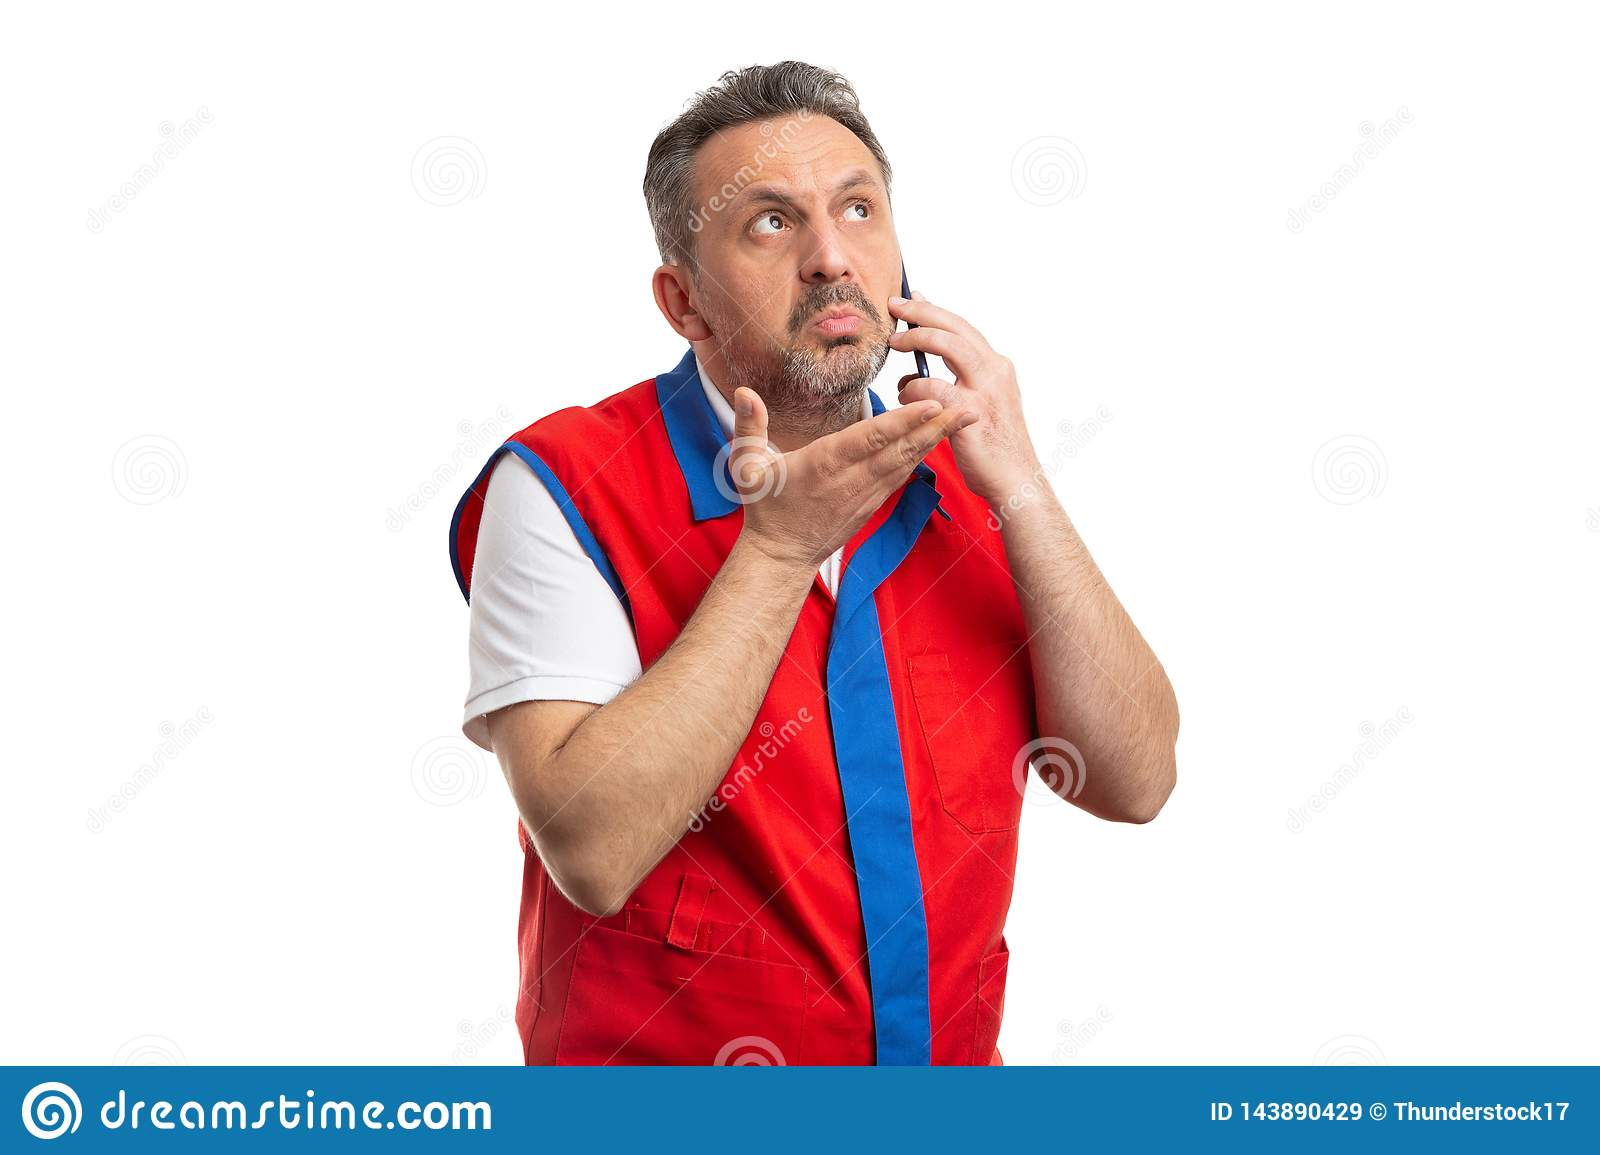phone: (903, 255, 935, 385)
talk: (724, 165, 1026, 496)
